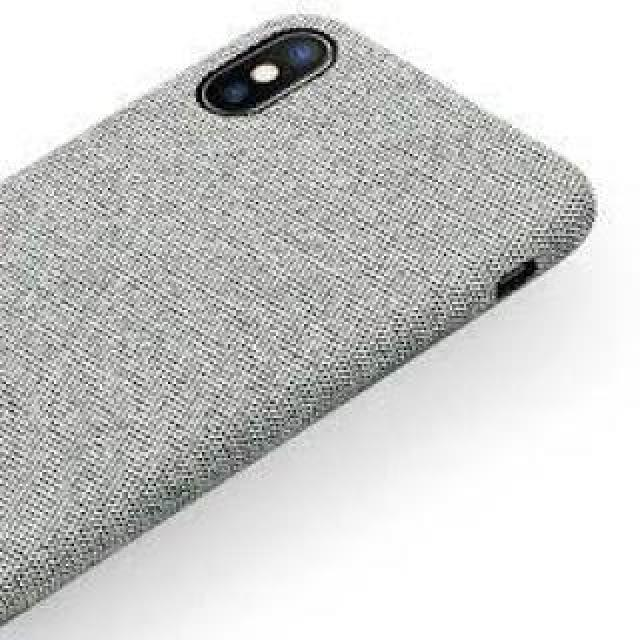smart phone: (0, 0, 627, 640)
